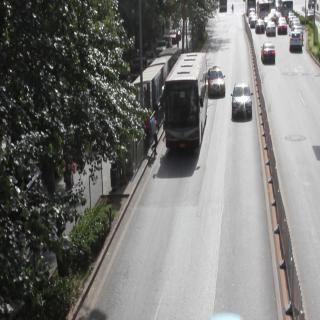BigCar: (162, 44, 210, 166), (279, 0, 297, 18), (257, 0, 270, 17)
Car: (229, 73, 255, 128), (206, 61, 226, 100), (289, 28, 305, 62), (261, 41, 278, 67), (278, 18, 288, 42), (253, 18, 266, 36), (264, 22, 277, 38), (250, 11, 260, 27)
